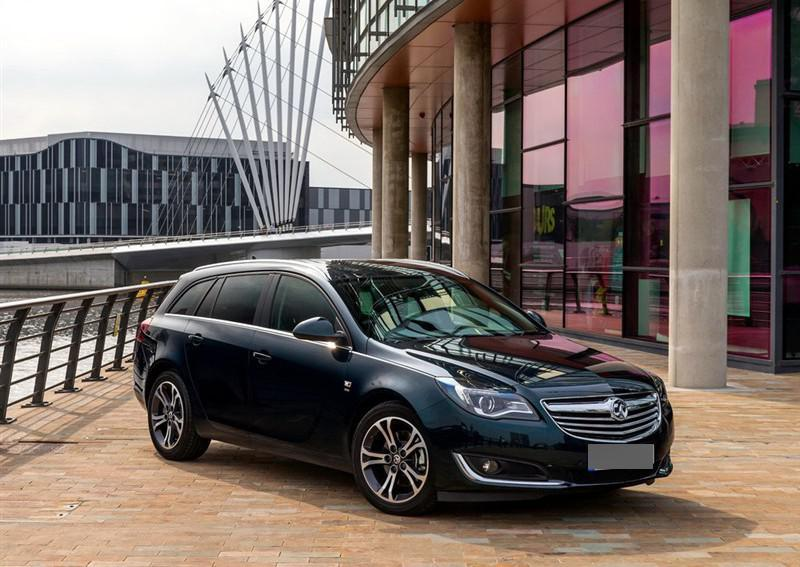Wagon: (132, 258, 676, 517)
